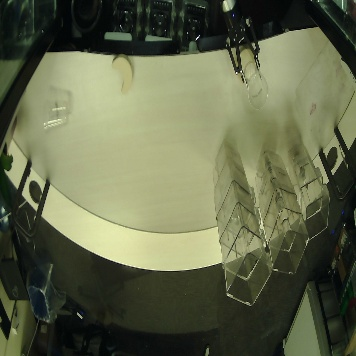empty_cup: (241, 61, 270, 110), (42, 99, 69, 134)
puck: (110, 53, 134, 94), (238, 47, 254, 73)
